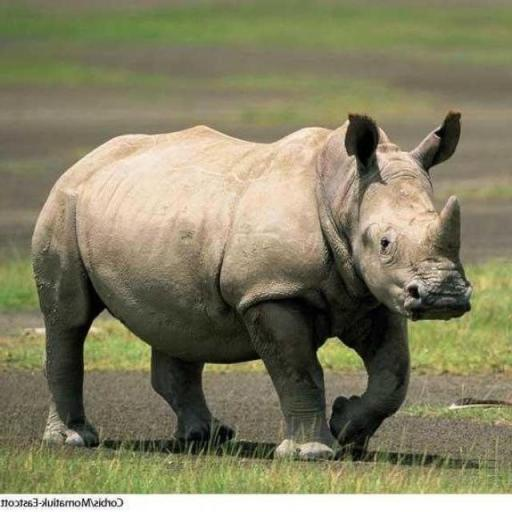Rhino: (28, 108, 474, 463)
